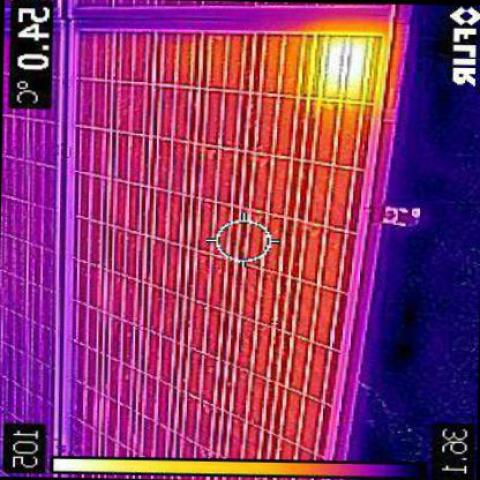fault: (322, 33, 370, 95)
